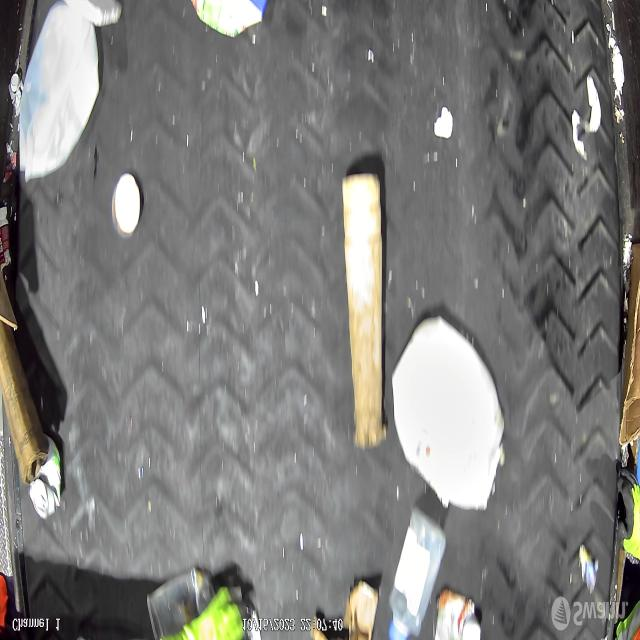can: (30, 432, 66, 522)
milk_jug: (391, 318, 506, 511), (17, 3, 101, 182)
non_white_jug: (388, 508, 445, 640)
